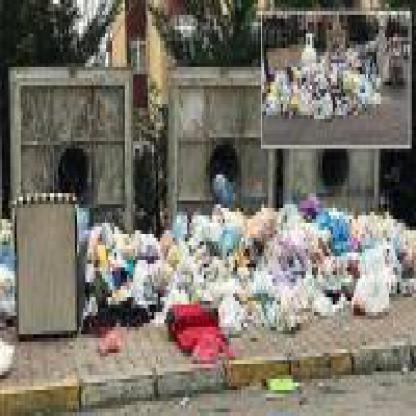Garbage: (96, 219, 414, 316), (100, 234, 177, 286), (351, 242, 387, 320), (256, 230, 310, 274), (0, 230, 13, 390), (210, 226, 241, 290), (162, 230, 193, 274), (100, 330, 121, 356), (0, 278, 11, 320), (330, 234, 348, 256), (233, 216, 252, 226)
